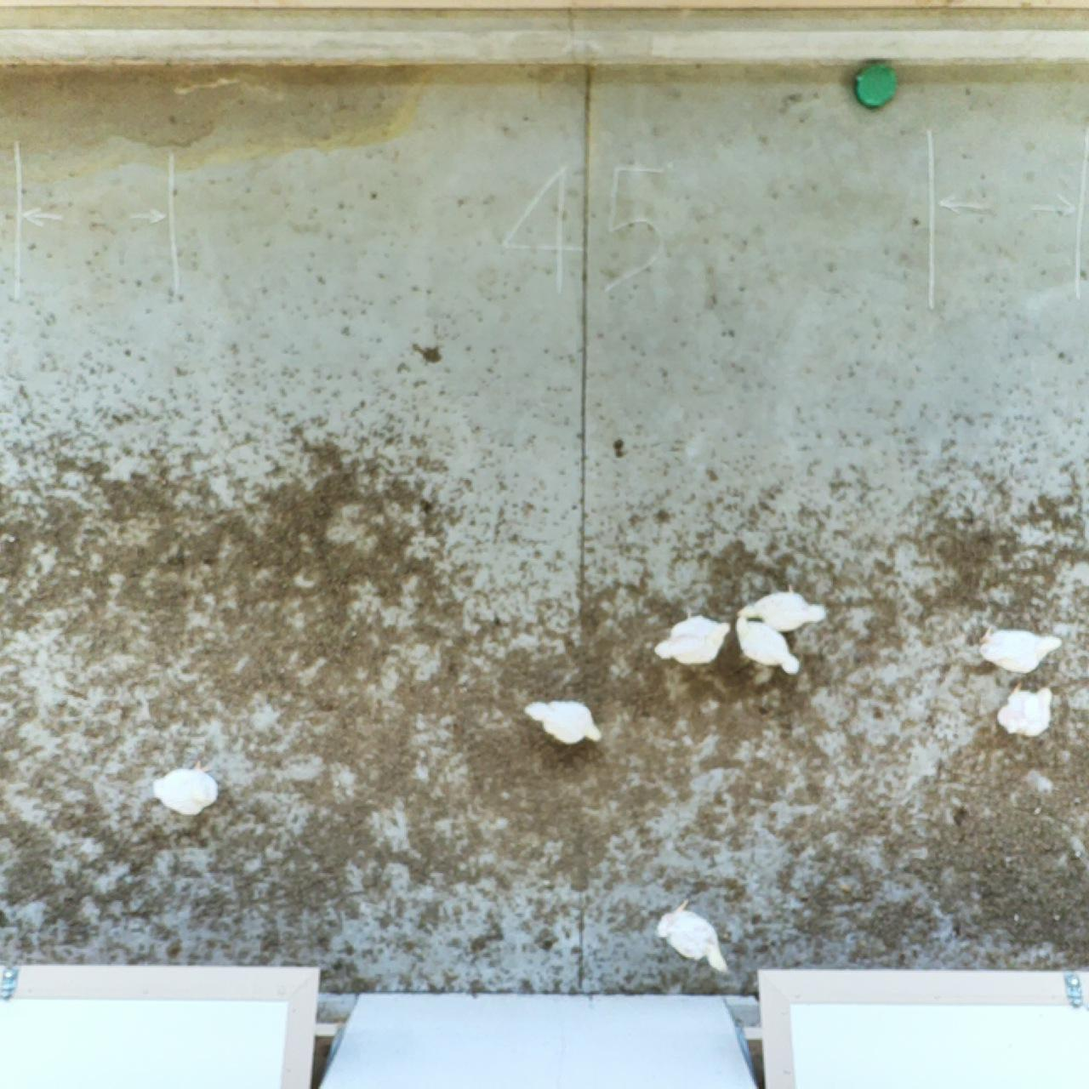chicken: (653, 897, 732, 977), (975, 622, 1063, 676), (738, 581, 829, 633), (653, 610, 734, 668), (733, 612, 802, 678), (148, 760, 223, 819), (520, 694, 603, 745), (996, 678, 1057, 741)
